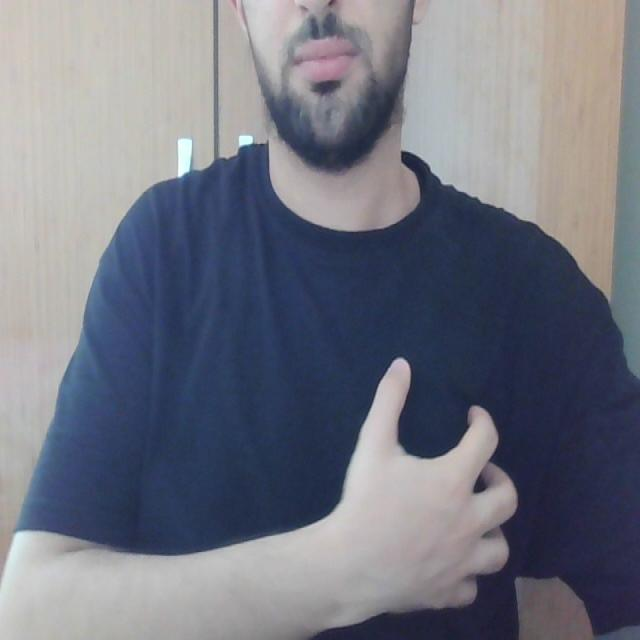Anne: (326, 352, 563, 620)
